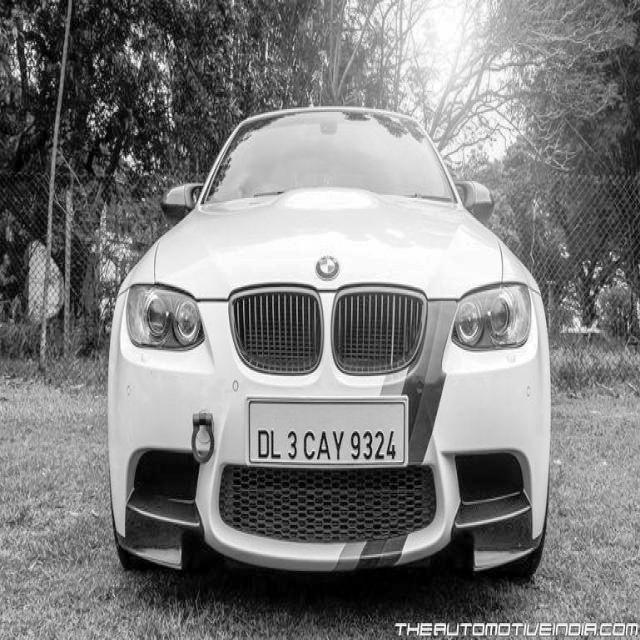Car: (98, 93, 572, 611)
